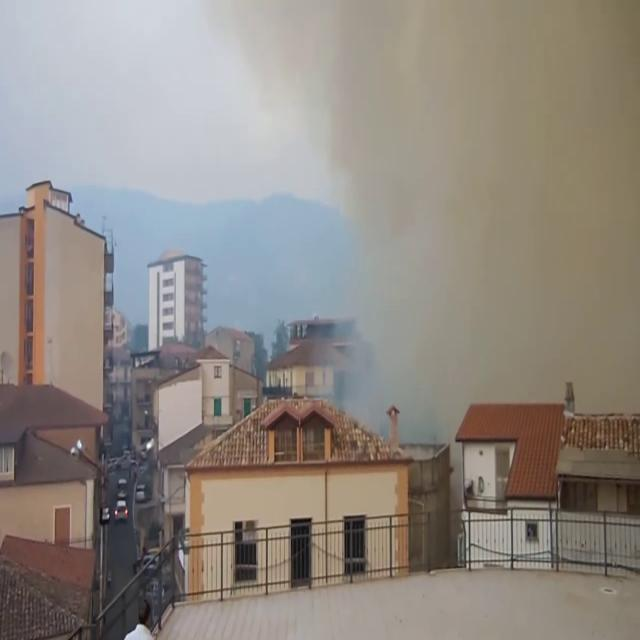Smoke: (260, 0, 640, 426)
